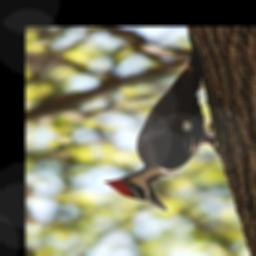Woodpecker: (104, 33, 235, 212)
